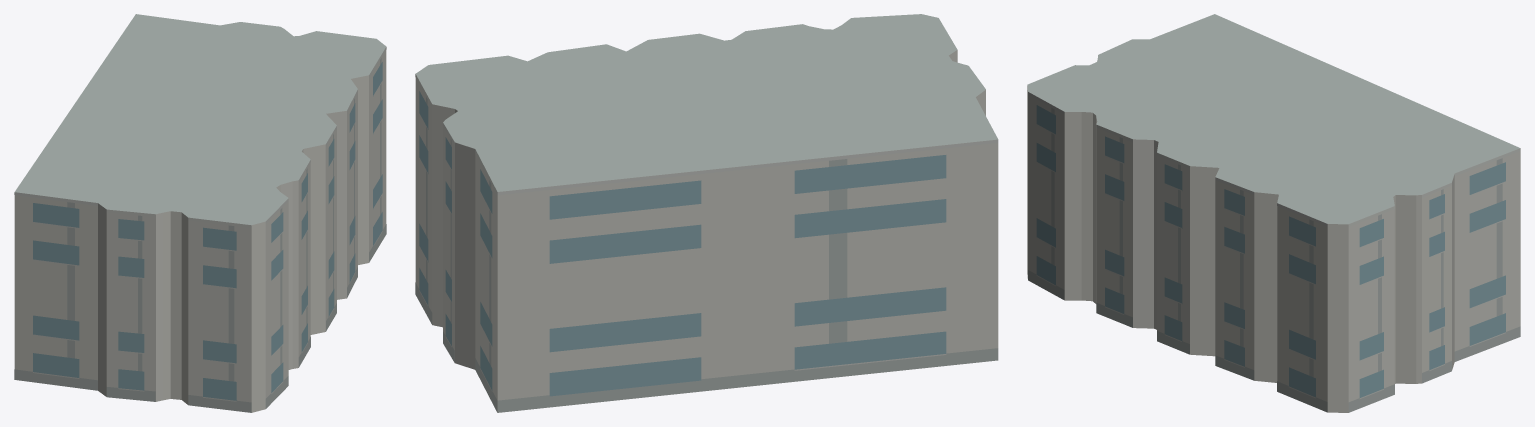
File: survey-upis-32783500.glb
3 views of the same model, side by side, from view 1: azimuth 30°, elevation 25°; view 2: azimuth 150°, elevation 25°; view 3: azimuth 270°, elevation 25° (orthographic). The views are drawn at different scales.
Visible parts, largest first — view 1: survey-upis-32783500.tmp; view 2: survey-upis-32783500.tmp; view 3: survey-upis-32783500.tmp.
Boxes of the visible parts, x1,y1,x2,y2 form: survey-upis-32783500.tmp: (14,14,386,412); survey-upis-32783500.tmp: (415,14,998,412); survey-upis-32783500.tmp: (1027,14,1520,412).
Bounding box in the file's own units: 36.46 × 15.25 × 36.14.
